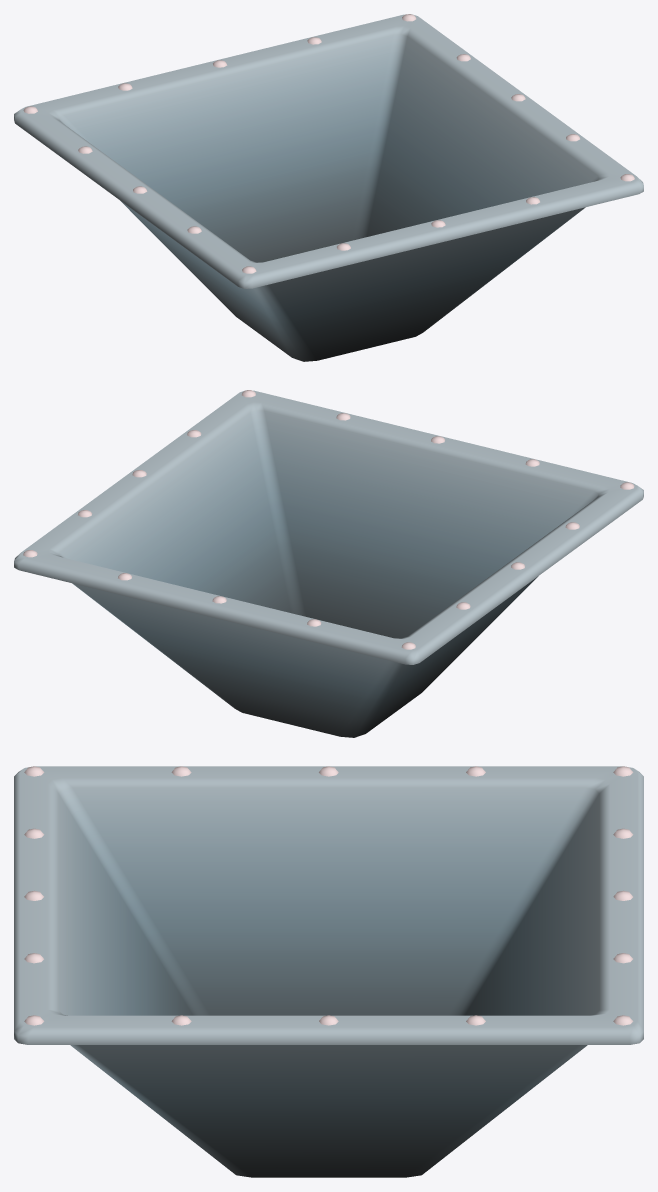
File: funnel_001.fbx
The picture shows the model from 3 angles, top to bottom: view 1: azimuth 30°, elevation 25°; view 2: azimuth 150°, elevation 25°; view 3: azimuth 270°, elevation 25°; orthographic projection. The views are drawn at different scales.
Parts seen in each view (by area): view 1: funnel_001; view 2: funnel_001; view 3: funnel_001.
Part boxes in pixels (bbox=[...]): funnel_001: bbox=[14, 14, 643, 361]; funnel_001: bbox=[14, 390, 643, 737]; funnel_001: bbox=[14, 766, 643, 1177].
Size of the model in its own units: 1500 by 1500 by 640.
